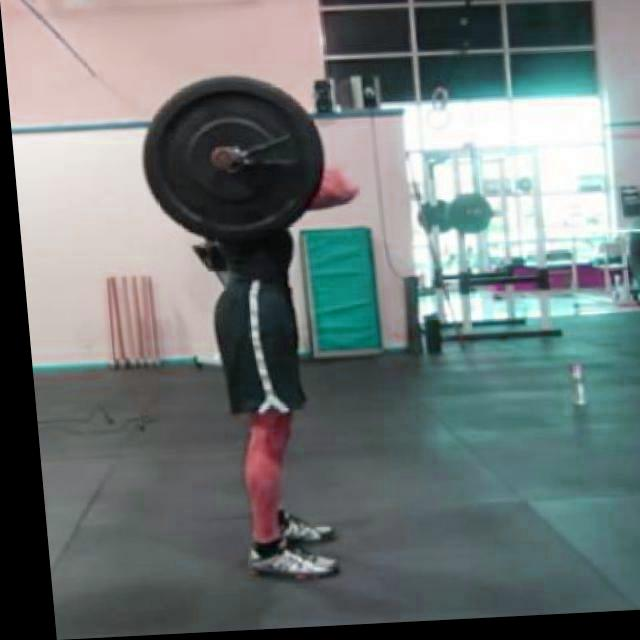barbell: (126, 71, 330, 248)
